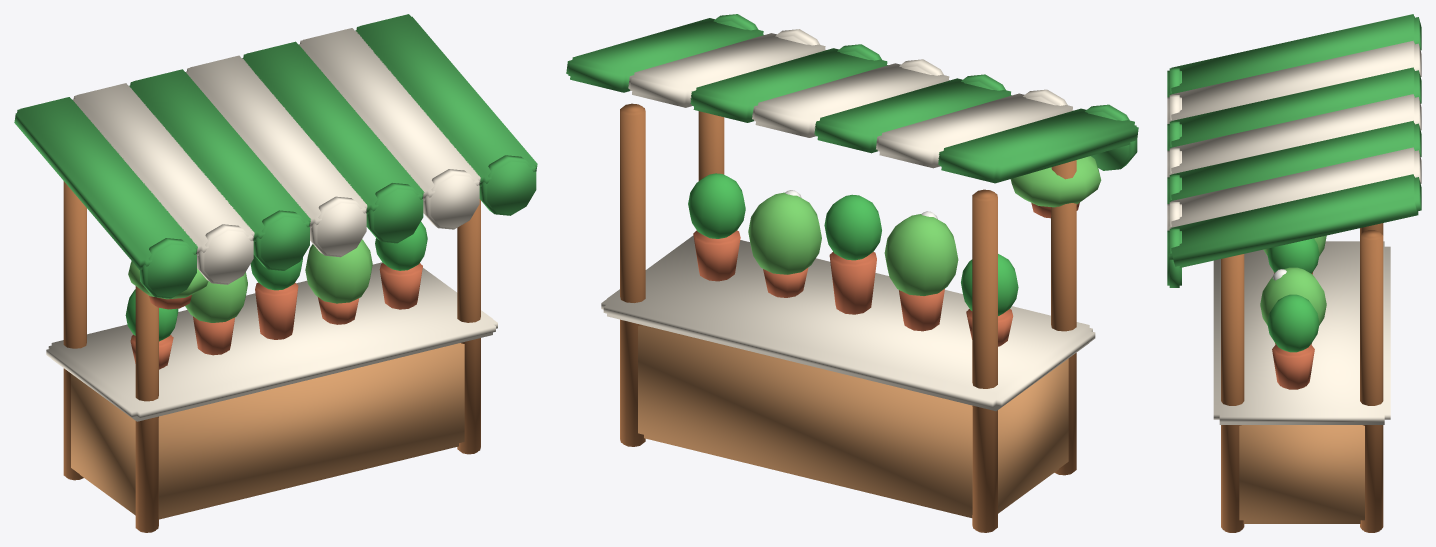
The model's file is MarketStall_Plantas.fbx.
3 renders of one model, left to right at view 1: azimuth 30°, elevation 25°; view 2: azimuth 150°, elevation 25°; view 3: azimuth 270°, elevation 25°, orthographic. The views are drawn at different scales.
Parts seen in each view (by area): view 1: MarketStall_Plantas; view 2: MarketStall_Plantas; view 3: MarketStall_Plantas.
Part boxes in pixels (x1,y1,x2,y2): MarketStall_Plantas: [14, 14, 537, 532]; MarketStall_Plantas: [566, 14, 1138, 532]; MarketStall_Plantas: [1167, 14, 1421, 532].
Bounding box in the file's own units: 3.05 × 2.65 × 1.75.
